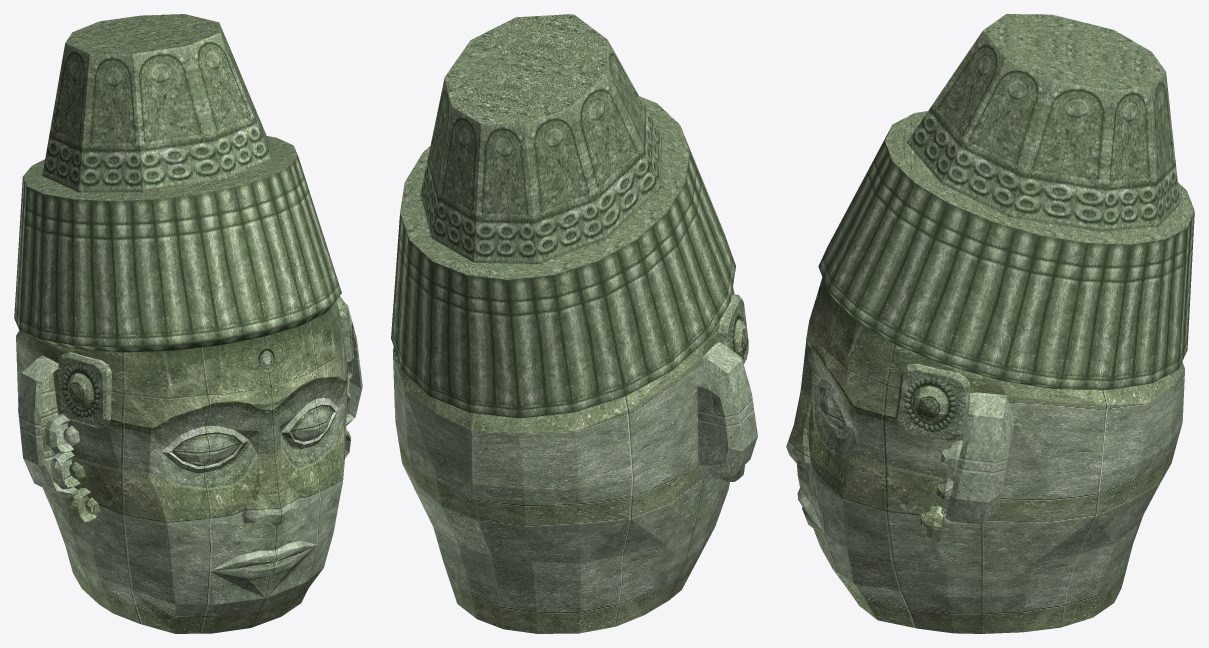
The model's file is thm_nboo_gungan_sacred_head_s01_l0.fbx.
The picture shows the model from 3 angles, left to right: view 1: azimuth 30°, elevation 25°; view 2: azimuth 150°, elevation 25°; view 3: azimuth 270°, elevation 25°; orthographic projection. The views are drawn at different scales.
Parts seen in each view (by area): view 1: mesh_node; view 2: mesh_node; view 3: mesh_node.
Boxes of the visible parts, left/top/right/bottom form: mesh_node: left=14, top=14, right=362, bottom=633; mesh_node: left=391, top=14, right=757, bottom=633; mesh_node: left=786, top=14, right=1194, bottom=633.
Size of the model in its own units: 5.87 by 9.24 by 6.13.
Materials: 2 (2 with a texture image).
